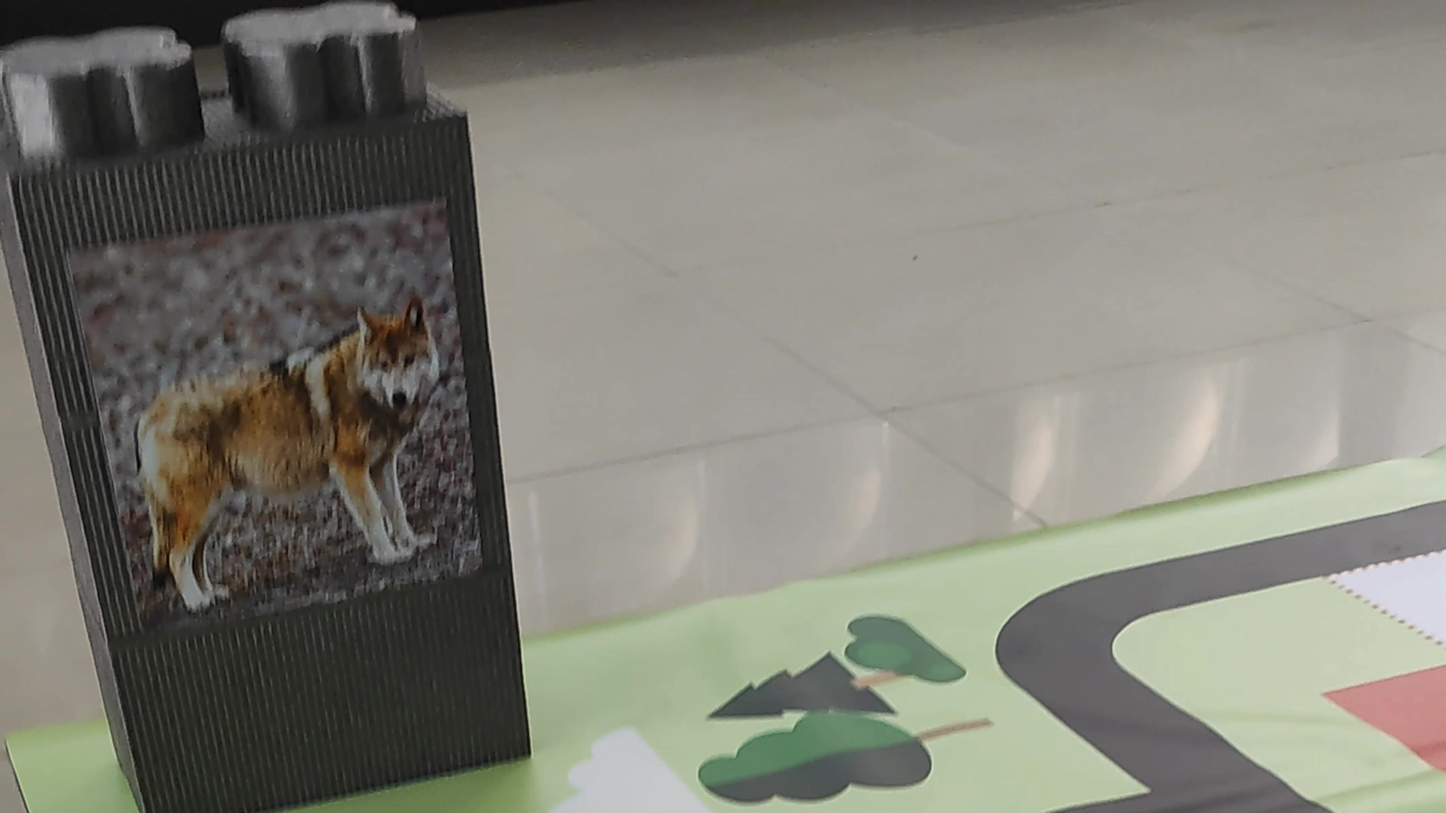wolf: (106, 301, 448, 595)
